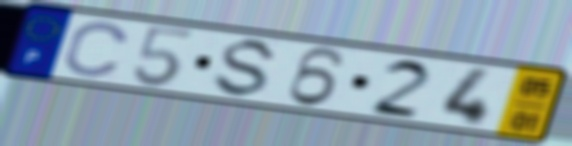2: (363, 59, 438, 121)
4: (436, 65, 497, 130)
5: (129, 24, 199, 91)
6: (284, 45, 348, 109)
C: (60, 20, 133, 80)
S: (208, 37, 283, 100)
